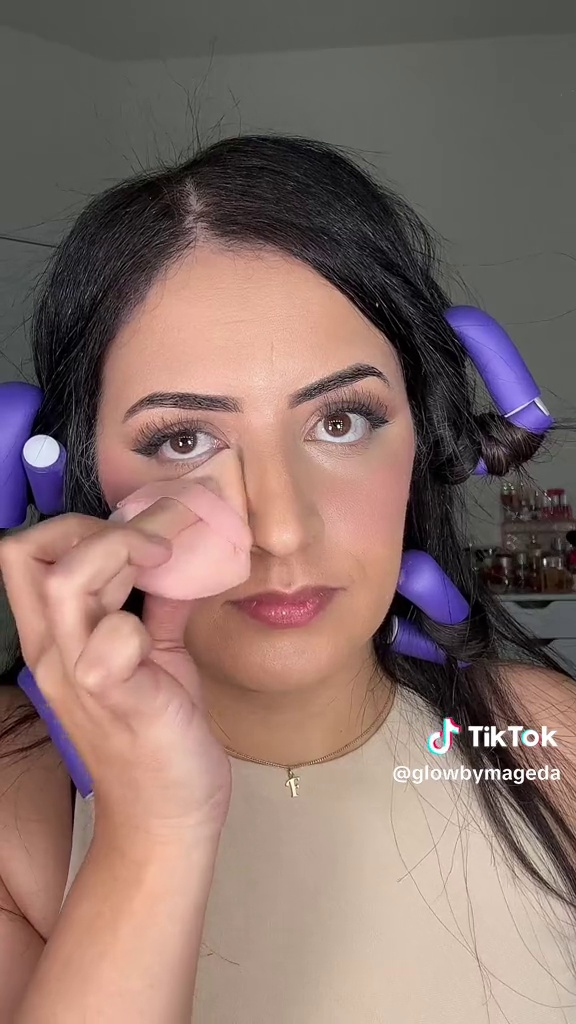train' :'yolo_data/train/images',: (91, 440, 267, 608)
